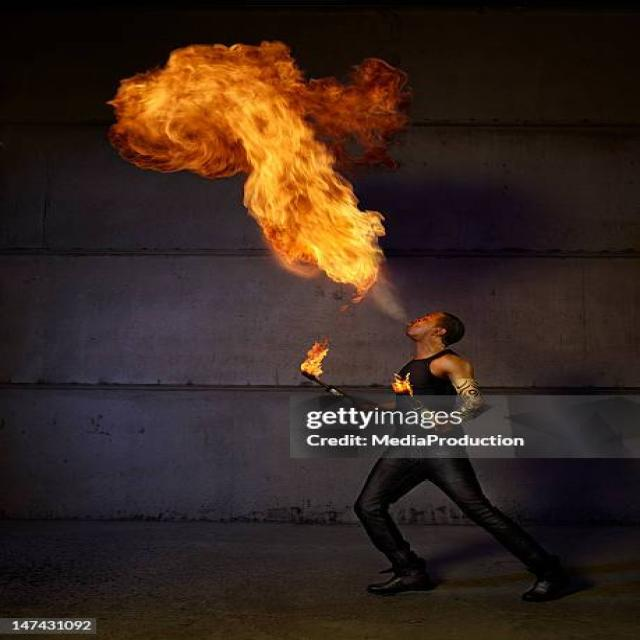fire: (108, 42, 306, 178), (244, 162, 386, 313), (308, 58, 408, 165)
